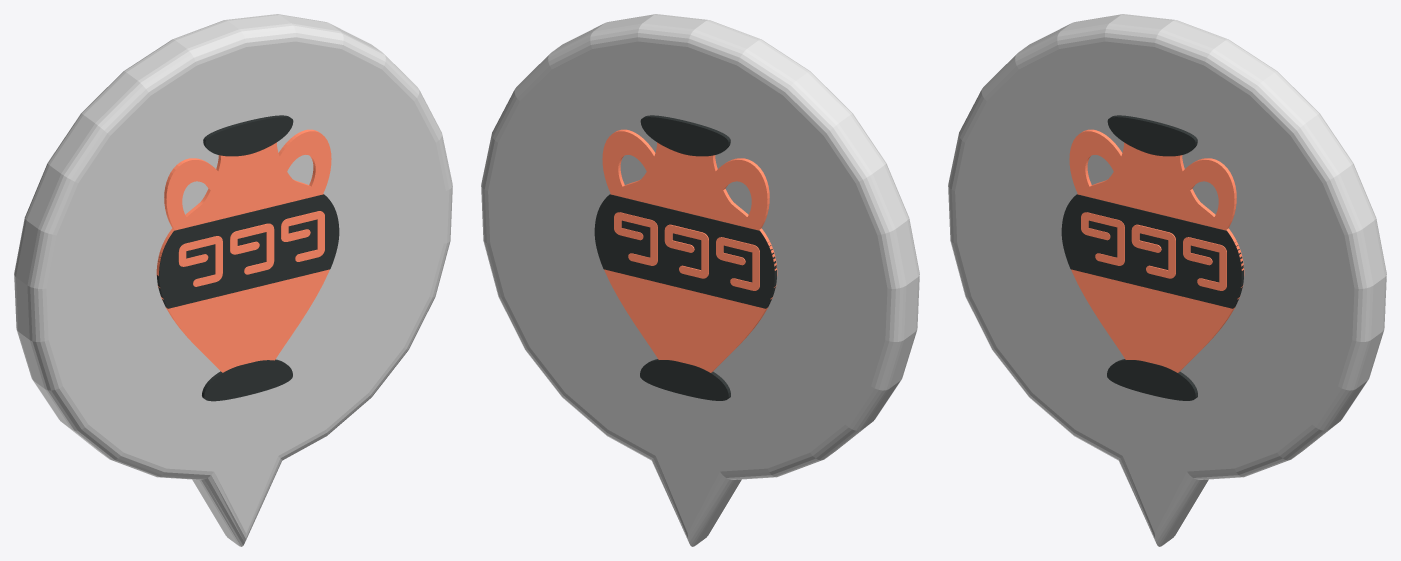
Rendered from amphora.glb.
The picture shows the model from 3 angles, left to right: view 1: azimuth 30°, elevation 25°; view 2: azimuth 150°, elevation 25°; view 3: azimuth 330°, elevation 25°; orthographic projection.
Visible parts, largest first — view 1: EmotionBubble; view 2: EmotionBubble; view 3: EmotionBubble.
Boxes of the visible parts, left/top/right/bottom form: EmotionBubble: left=14, top=14, right=452, bottom=546; EmotionBubble: left=481, top=14, right=919, bottom=546; EmotionBubble: left=948, top=14, right=1386, bottom=546.
Size of the model in its own units: 5.29 by 6.16 by 0.706.
